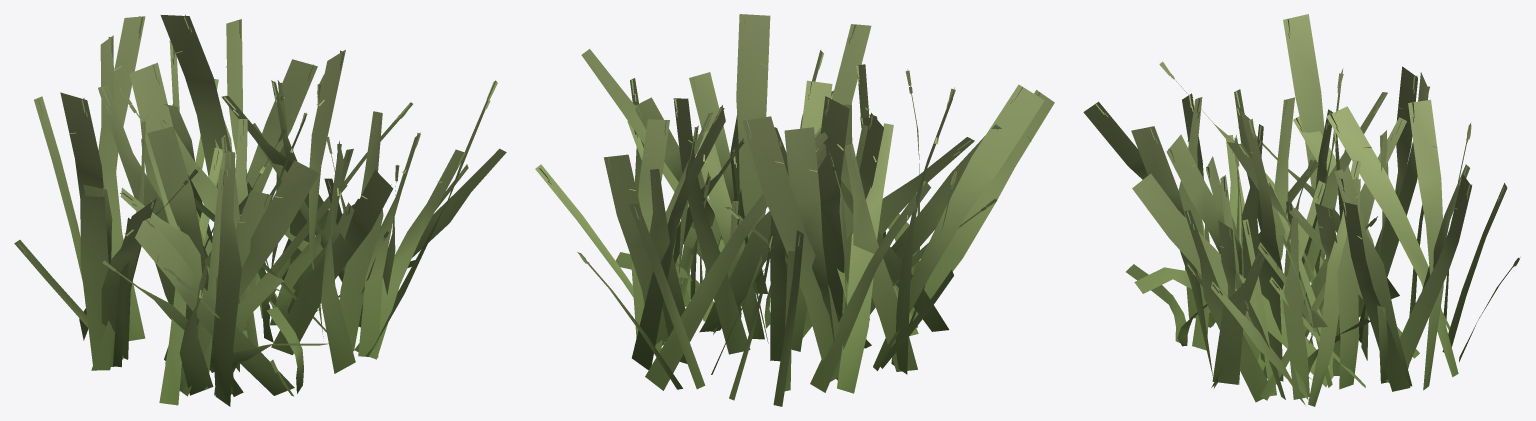
The model's file is Grass Tuft D.glb.
3 renders of one model, left to right at view 1: azimuth 30°, elevation 25°; view 2: azimuth 150°, elevation 25°; view 3: azimuth 270°, elevation 25°, orthographic. The views are drawn at different scales.
Parts seen in each view (by area): view 1: Grass Tuft D; view 2: Grass Tuft D; view 3: Grass Tuft D.
Part boxes in pixels (x1,y1,x2,y2): Grass Tuft D: (14, 14, 506, 406); Grass Tuft D: (535, 14, 1054, 406); Grass Tuft D: (1083, 14, 1520, 406).
Size of the model in its own units: 1.49 by 0.9967 by 1.46.
